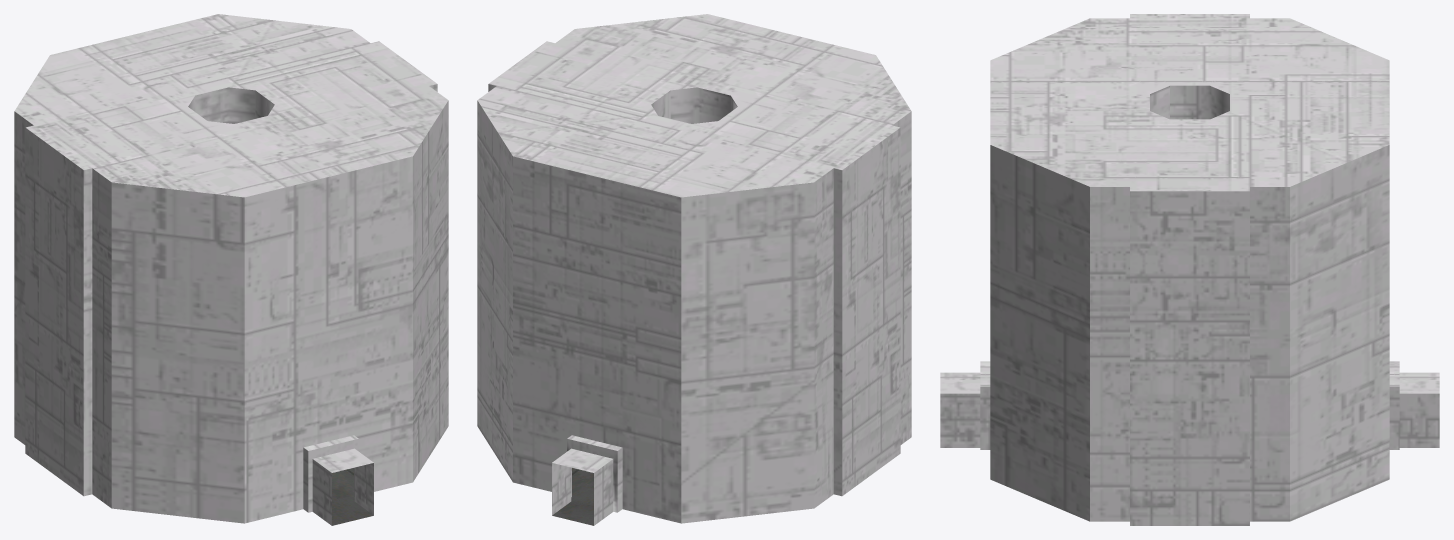
Rendered from thm_spc_star_destroyer_s01_r22_powercore_mesh_r22.fbx.
3 renders of one model, left to right at view 1: azimuth 30°, elevation 25°; view 2: azimuth 150°, elevation 25°; view 3: azimuth 270°, elevation 25°, orthographic. The views are drawn at different scales.
Visible parts, largest first — view 1: mesh_node; view 2: mesh_node; view 3: mesh_node.
Boxes of the visible parts, x1,y1,x2,y2 form: mesh_node: (14,14,448,525); mesh_node: (477,14,911,525); mesh_node: (940,14,1439,525).
Bounding box in the file's own units: 21 × 18.5 × 25.
2 materials, 2 textured.
